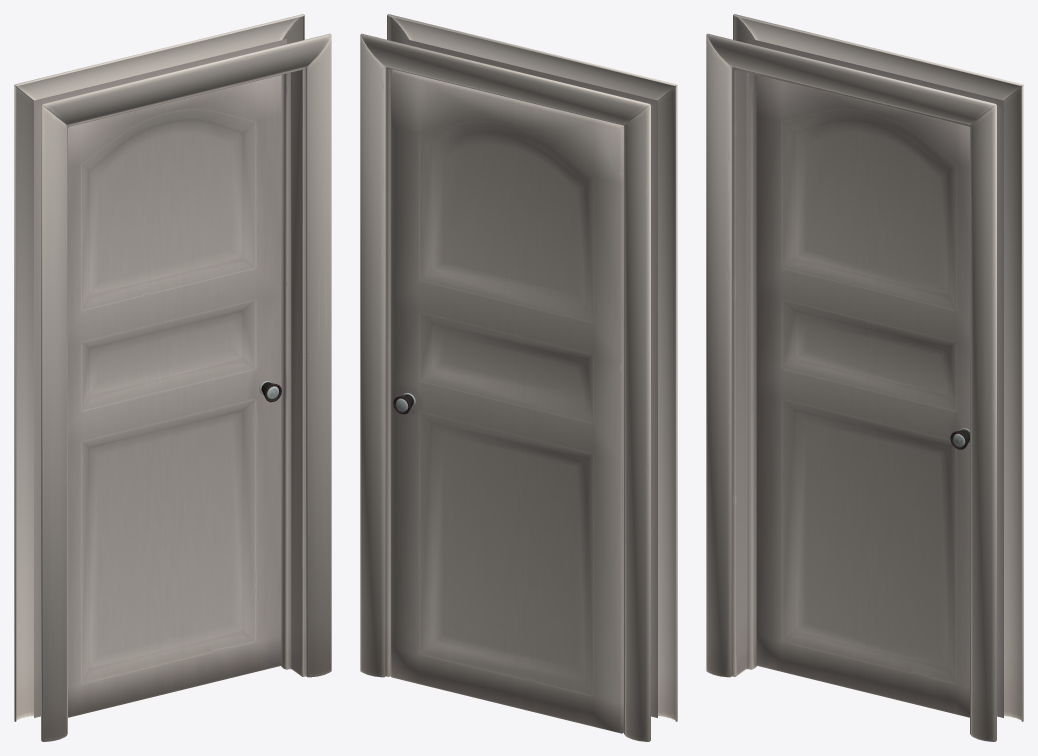
Rendered from classic_door.gltf.
3 views of the same model, side by side, from view 1: azimuth 30°, elevation 25°; view 2: azimuth 150°, elevation 25°; view 3: azimuth 330°, elevation 25° (orthographic).
Visible parts, largest first — view 1: Door leaf, Architrave 2, Door frame, Architrave 1; view 2: Door leaf, Architrave 2, Architrave 1, Door frame; view 3: Door leaf, Architrave 2, Door frame, Architrave 1.
Part boxes in pixels (x1,y1,x2,y2): Door leaf: (68, 75, 281, 717); Architrave 2: (14, 15, 331, 741); Door frame: (34, 39, 305, 734); Architrave 1: (15, 14, 331, 124); Door leaf: (391, 69, 623, 733); Architrave 2: (360, 15, 677, 741); Architrave 1: (360, 14, 676, 124); Door frame: (386, 39, 657, 734); Door leaf: (756, 75, 969, 717); Architrave 2: (706, 15, 1023, 741); Door frame: (732, 39, 1003, 734); Architrave 1: (706, 14, 1022, 124).
Size of the model in its own units: 1 by 2.1 by 0.2183.
Materials: 2 (2 with a texture image).
